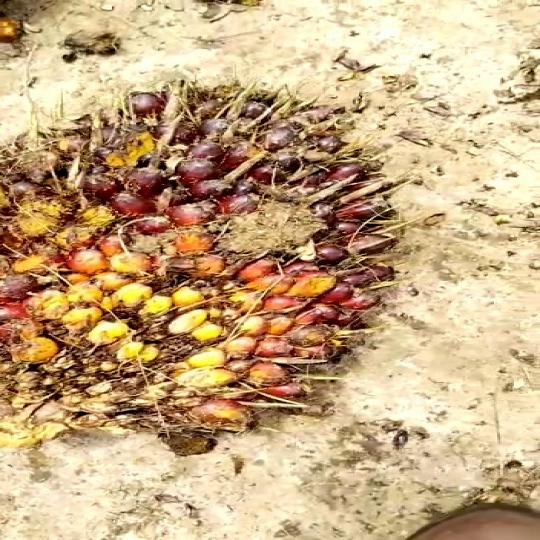masak: (0, 83, 397, 452)
